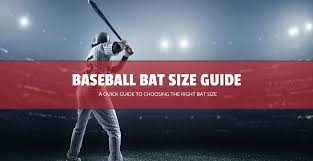baseball bat: (85, 1, 133, 54)
